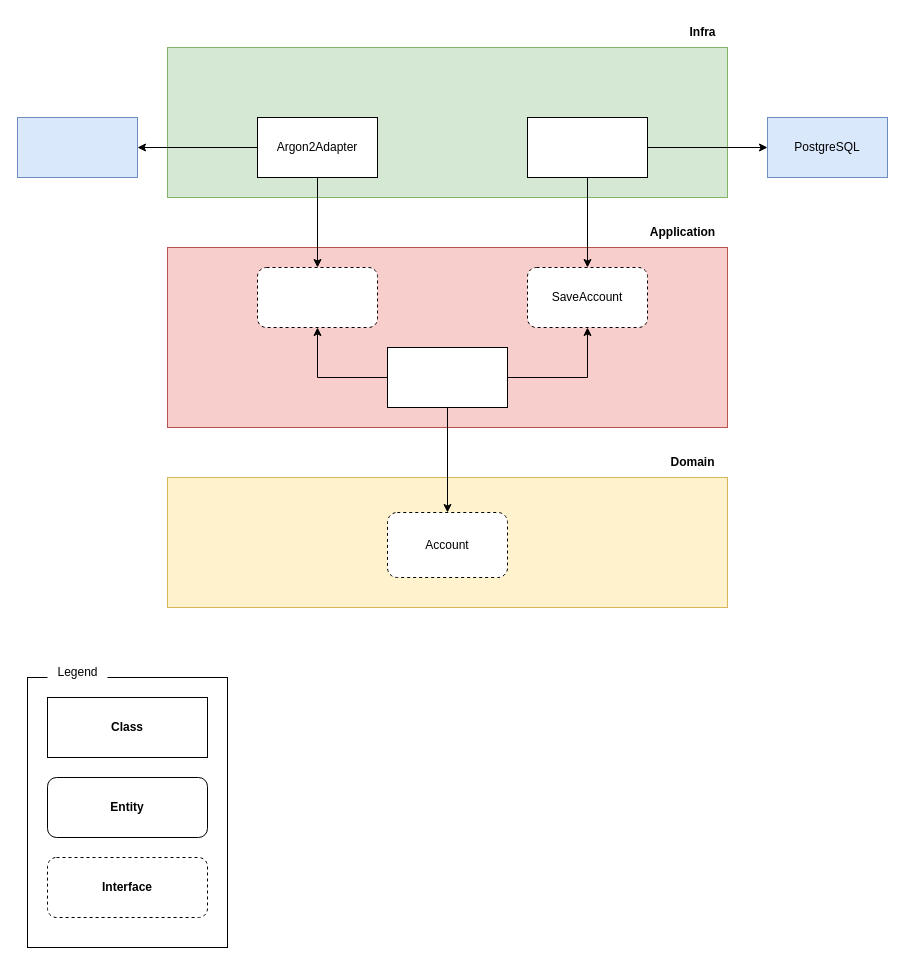
This 905x965 diagram has some shape labels left out. Each missing label, with the centre of its shape:
"AccountRepository" goes at (587,147).
"AccountService" goes at (447,377).
"Argon2" goes at (77,147).
"PasswordEncrypter" goes at (317,297).
